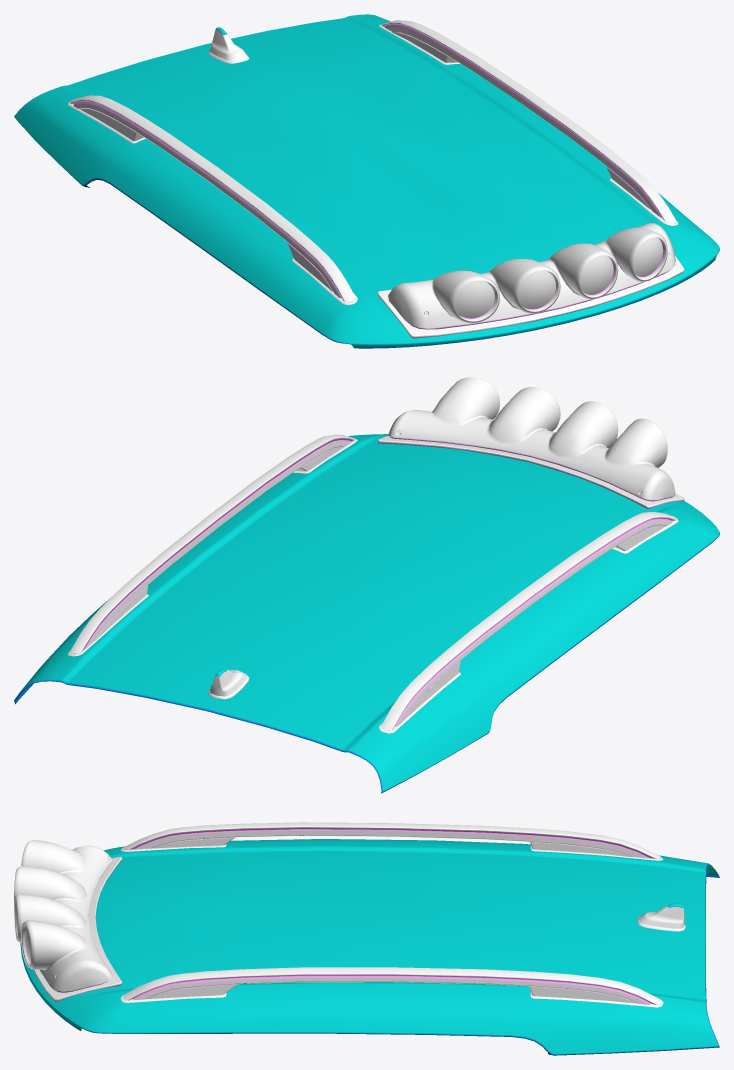
The model's file is Car_Mini_CountrymanJCW_2017_Roof_SetF.fbx.
The picture shows the model from 3 angles, top to bottom: view 1: azimuth 30°, elevation 25°; view 2: azimuth 150°, elevation 25°; view 3: azimuth 270°, elevation 25°; orthographic projection. The views are drawn at different scales.
Visible parts, largest first — view 1: Roof 6; view 2: Roof 6; view 3: Roof 6.
Part boxes in pixels (x1,y1,x2,y2): Roof 6: (14,14,719,348); Roof 6: (14,377,719,793); Roof 6: (14,822,719,1055).
Bounding box in the file's own units: 1.28 × 0.255 × 2.03.
